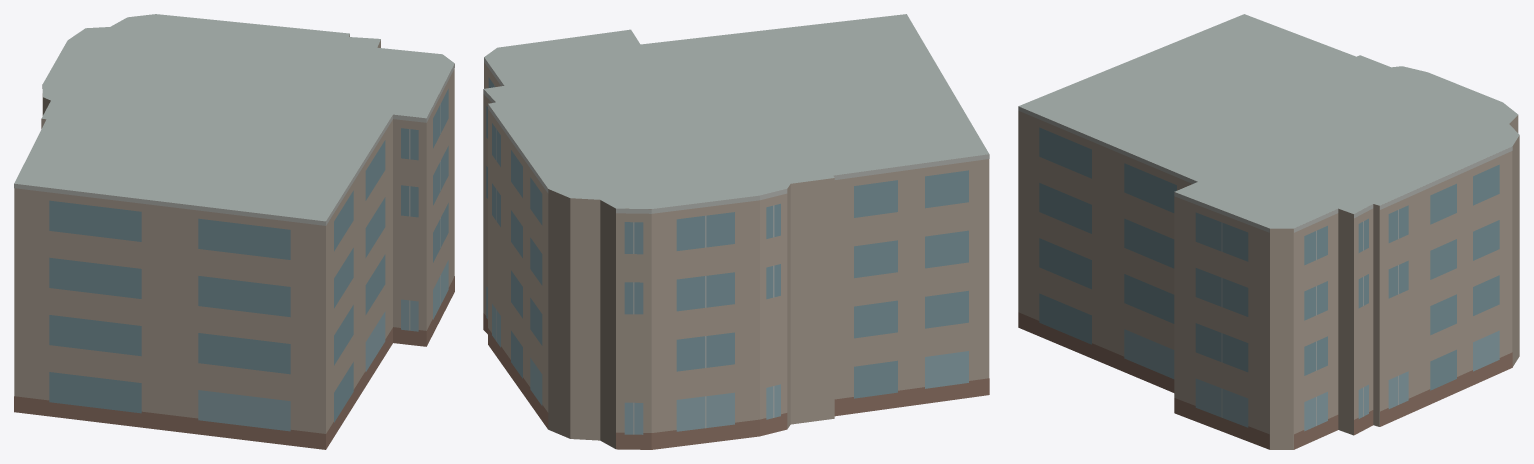
Rendered from survey-upis-32863952.glb.
3 renders of one model, left to right at view 1: azimuth 30°, elevation 25°; view 2: azimuth 150°, elevation 25°; view 3: azimuth 270°, elevation 25°, orthographic. The views are drawn at different scales.
Visible parts, largest first — view 1: survey-upis-32863952.tmp; view 2: survey-upis-32863952.tmp; view 3: survey-upis-32863952.tmp.
Boxes of the visible parts, x1,y1,x2,y2 form: survey-upis-32863952.tmp: (14,14,454,449); survey-upis-32863952.tmp: (483,14,989,449); survey-upis-32863952.tmp: (1018,14,1519,449).
Size of the model in its own units: 25.8 by 12.4 by 25.47.
